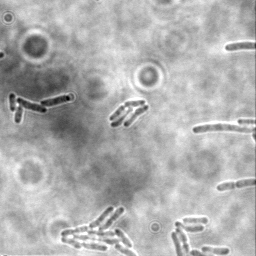Dividing: (215, 177, 255, 193), (15, 96, 48, 115)
Microcolony: (59, 203, 139, 255), (170, 214, 231, 255), (108, 99, 150, 130)
Rod: (191, 123, 255, 135), (40, 95, 72, 109), (224, 42, 255, 52), (13, 104, 25, 125), (8, 91, 17, 113)
